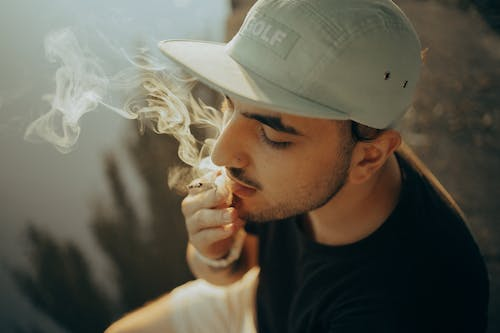cigarette: (184, 179, 234, 193)
